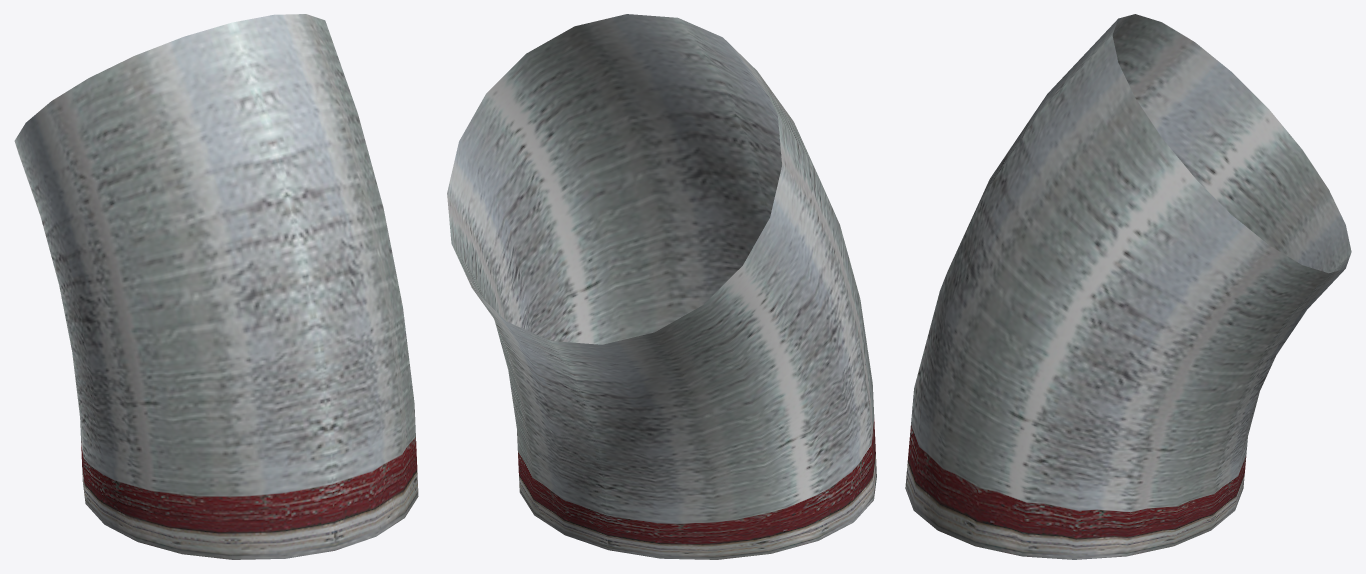
Rendered from Pipe_A_1mts_01.fbx.
3 views of the same model, side by side, from view 1: azimuth 30°, elevation 25°; view 2: azimuth 150°, elevation 25°; view 3: azimuth 270°, elevation 25° (orthographic). The views are drawn at different scales.
Visible parts, largest first — view 1: Pipe_A_1mts_01; view 2: Pipe_A_1mts_01; view 3: Pipe_A_1mts_01.
Boxes of the visible parts, x1,y1,x2,y2 form: Pipe_A_1mts_01: (14,14,418,559); Pipe_A_1mts_01: (447,14,876,559); Pipe_A_1mts_01: (905,14,1351,559).
Bounding box in the file's own units: 100 × 148 × 132.
Materials: 1 (1 with a texture image).
